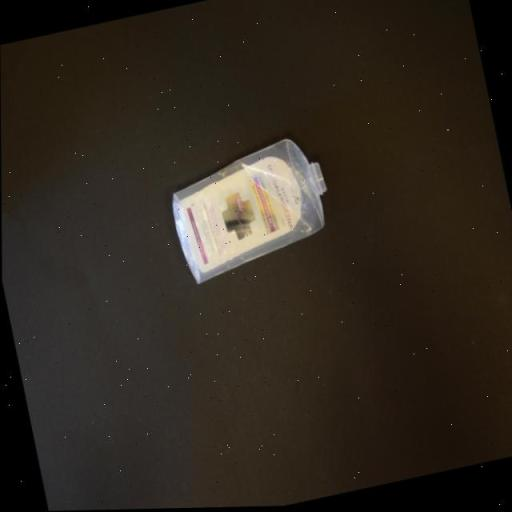plastic: (161, 131, 345, 291)
